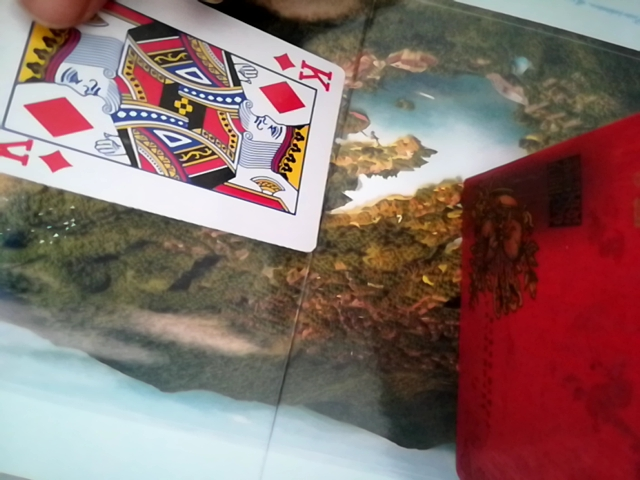fk k: (0, 0, 350, 262)
